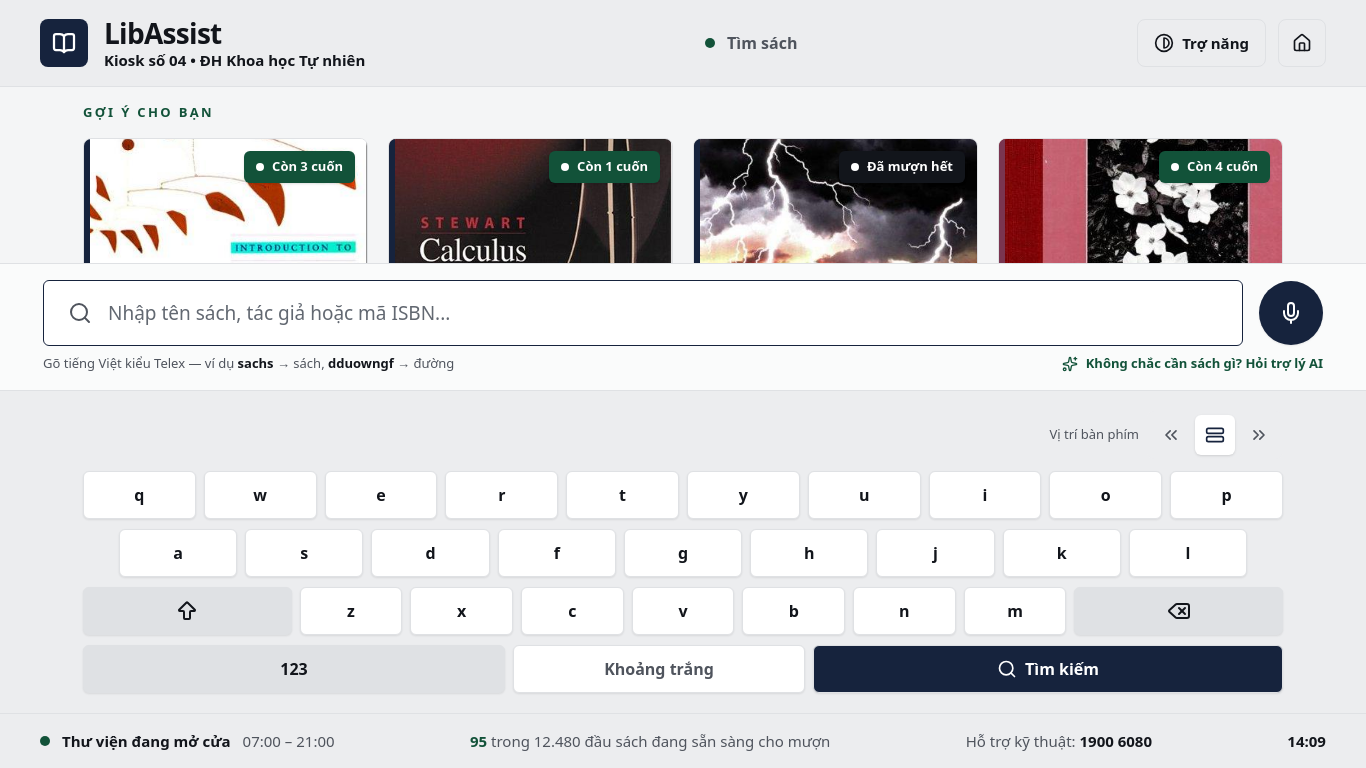
Test: Voice search — when the browser supports it › does not re-encode an accented transcript through Telex
Step 1. Click the button named "Tìm bằng giọng nói" → click(1291, 313), box [1259,281,1323,345]
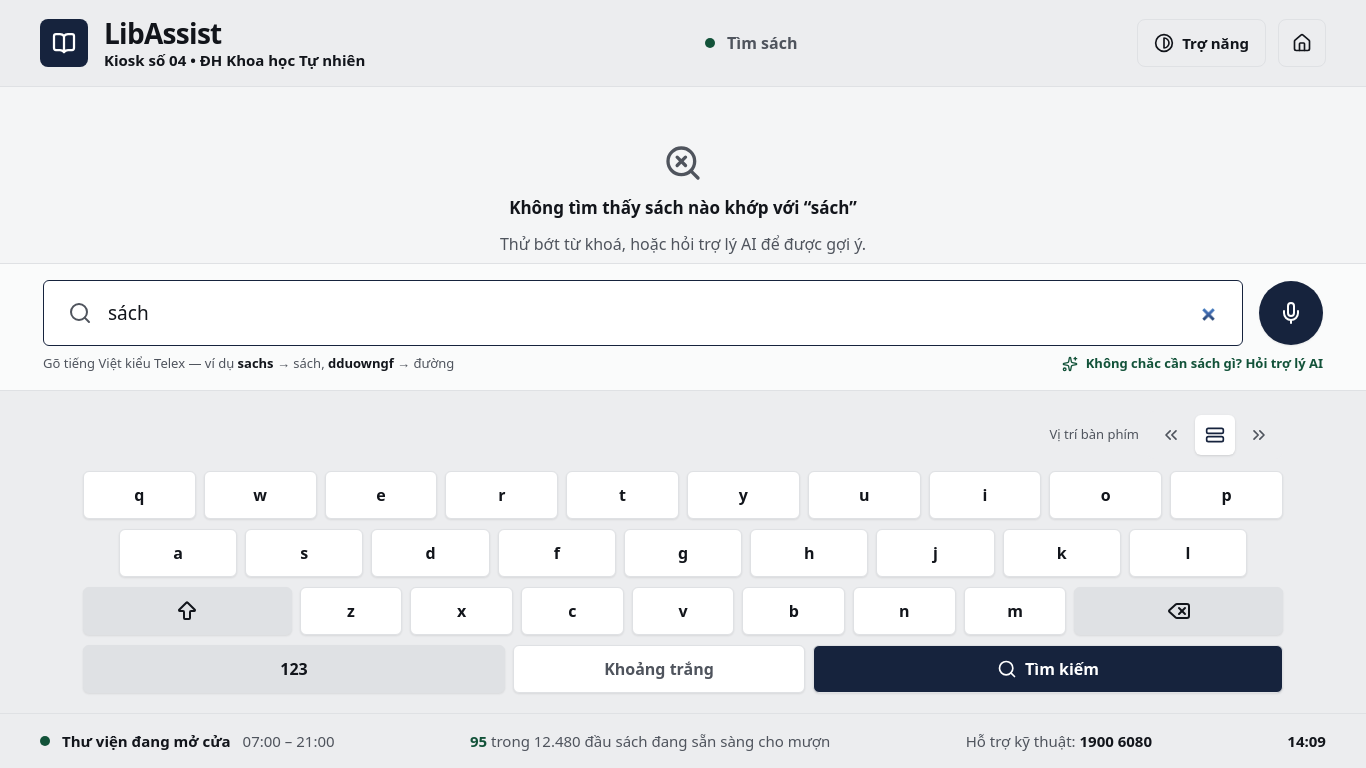
Expected: the search field holds "sách", [108,281,1218,345]
